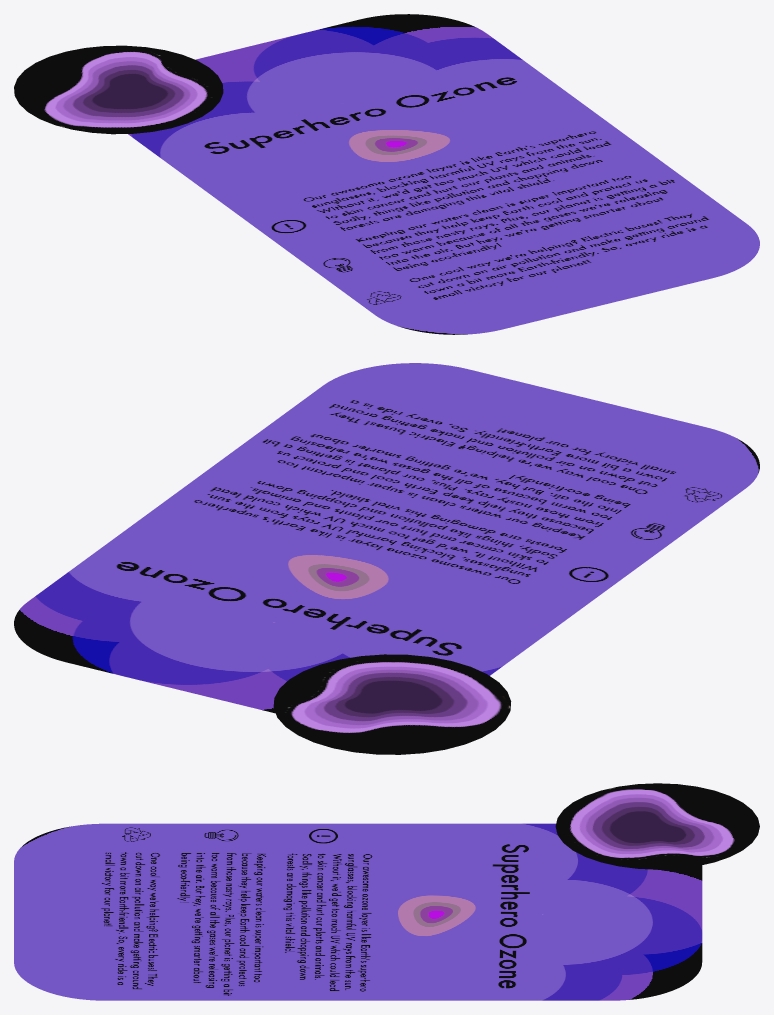
The model's file is OzoneFactsglb.glb.
The picture shows the model from 3 angles, top to bottom: view 1: azimuth 30°, elevation 25°; view 2: azimuth 150°, elevation 25°; view 3: azimuth 270°, elevation 25°; orthographic projection. The views are drawn at different scales.
Parts seen in each view (by area): view 1: OzoneFacts; view 2: OzoneFacts; view 3: OzoneFacts.
Boxes of the visible parts, x1=… form: OzoneFacts: x1=14, y1=14, x2=759, y2=334; OzoneFacts: x1=14, y1=363, x2=759, y2=754; OzoneFacts: x1=14, y1=783, x2=759, y2=1000.
Bounding box in the file's own units: 2.34 × 0.0544 × 3.56.
2 materials, 2 textured.
